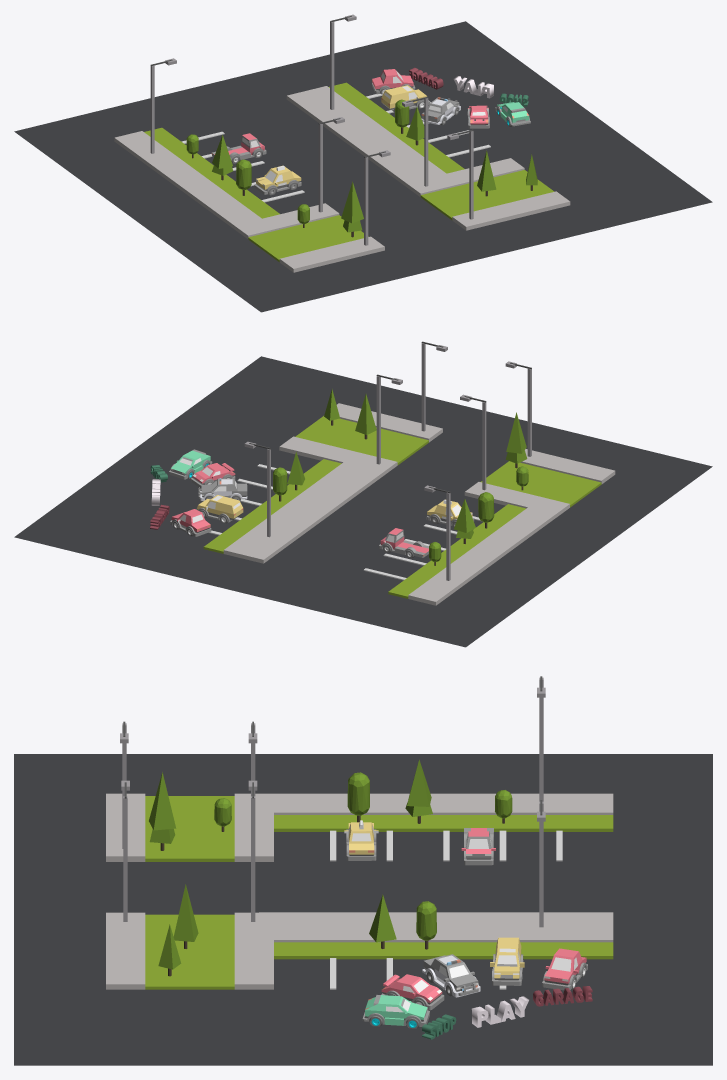
Rendered from blender1.fbx.
3 renders of one model, top to bottom at view 1: azimuth 30°, elevation 25°; view 2: azimuth 150°, elevation 25°; view 3: azimuth 270°, elevation 25°, orthographic. The views are drawn at different scales.
Visible parts, largest first — view 1: Plane_Plane.008, Cube.905_Cube.3610, Cube.030_Cube.042, body.005, body.004, body, body.002, body.006, body.001, Cone.005_Cone.031, PlayButton; view 2: Plane_Plane.008, Cube.905_Cube.3610, Cube.030_Cube.042, body.004, body.006, body, body.001, body.002, body.003, body.005, Cube.000_Cube.007, Cone.003_Cone.029; view 3: Plane_Plane.008, Cube.905_Cube.3610, Cube.030_Cube.042, body.001, body, body.004, body.002, body.003, body.005, body.006, Cube.000_Cube.007, PlayButton (+9 smaller).
Boxes of the visible parts, <box> form: Plane_Plane.008: <box>14,21,712,312</box>; Cube.905_Cube.3610: <box>114,82,570,230</box>; Cube.030_Cube.042: <box>234,203,384,272</box>; body.005: <box>254,165,301,194</box>; body.004: <box>381,85,429,112</box>; body: <box>421,97,460,124</box>; body.002: <box>372,69,415,94</box>; body.006: <box>211,133,266,160</box>; body.001: <box>495,102,530,126</box>; Cone.005_Cone.031: <box>341,181,363,223</box>; PlayButton: <box>453,76,493,98</box>; Plane_Plane.008: <box>14,356,712,647</box>; Cube.905_Cube.3610: <box>203,403,556,605</box>; Cube.030_Cube.042: <box>464,449,615,517</box>; body.004: <box>196,495,243,522</box>; body.006: <box>379,528,428,557</box>; body: <box>200,478,247,500</box>; body.001: <box>169,449,212,479</box>; body.002: <box>170,509,211,536</box>; body.003: <box>191,463,235,488</box>; body.005: <box>426,499,474,525</box>; Cube.000_Cube.007: <box>363,516,481,580</box>; Cone.003_Cone.029: <box>355,394,376,434</box>; Plane_Plane.008: <box>14,754,712,1065</box>; Cube.905_Cube.3610: <box>106,793,613,989</box>; Cube.030_Cube.042: <box>106,793,273,861</box>; body.001: <box>362,995,429,1026</box>; body: <box>422,954,480,997</box>; body.004: <box>490,937,524,985</box>; body.002: <box>542,948,587,990</box>; body.003: <box>381,974,444,1010</box>; body.005: <box>344,820,378,860</box>; body.006: <box>461,828,495,865</box>; Cube.000_Cube.007: <box>330,830,562,861</box>; PlayButton: <box>471,996,528,1027</box>.
Bounding box in the file's own units: 3213 × 638 × 3045.
